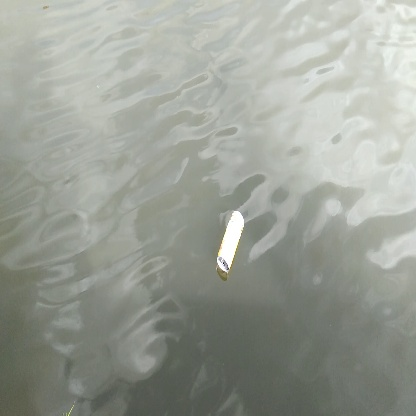bottle: (215, 207, 249, 276)
